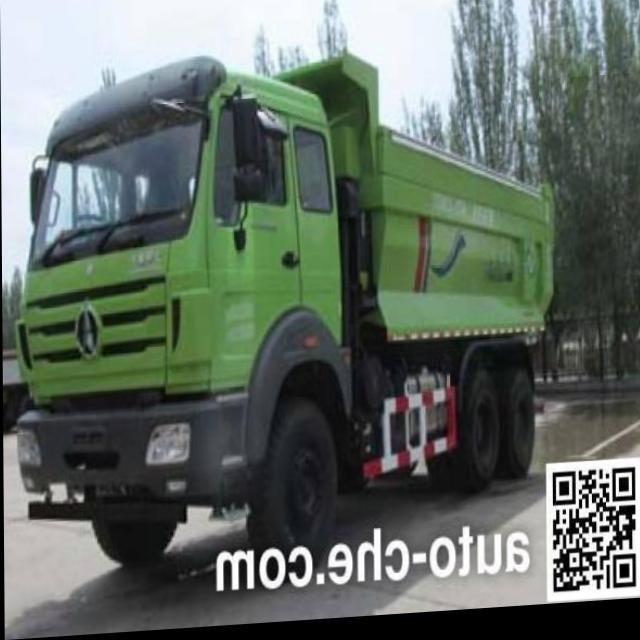uncovered: (3, 23, 577, 492)
